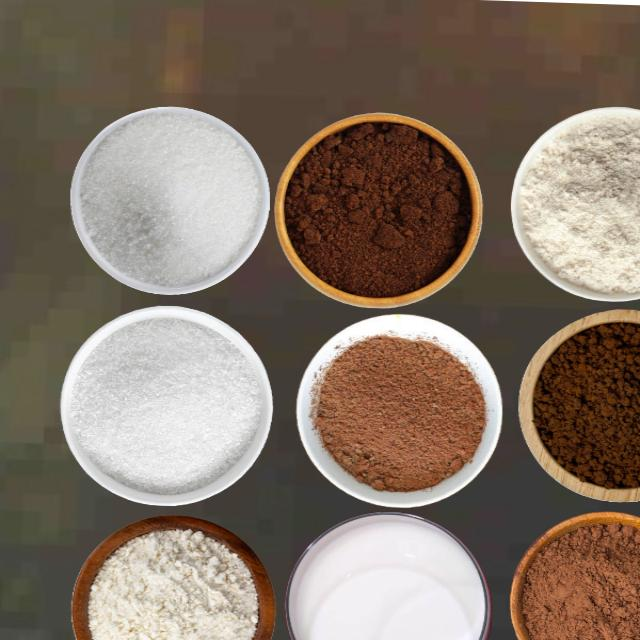Cocoa: (311, 333, 486, 492), (508, 510, 640, 640)
Coffee: (282, 117, 473, 299), (531, 320, 639, 489)
Flour: (518, 111, 639, 294), (86, 527, 259, 639)
Sugar: (68, 316, 261, 494), (77, 110, 261, 287)
